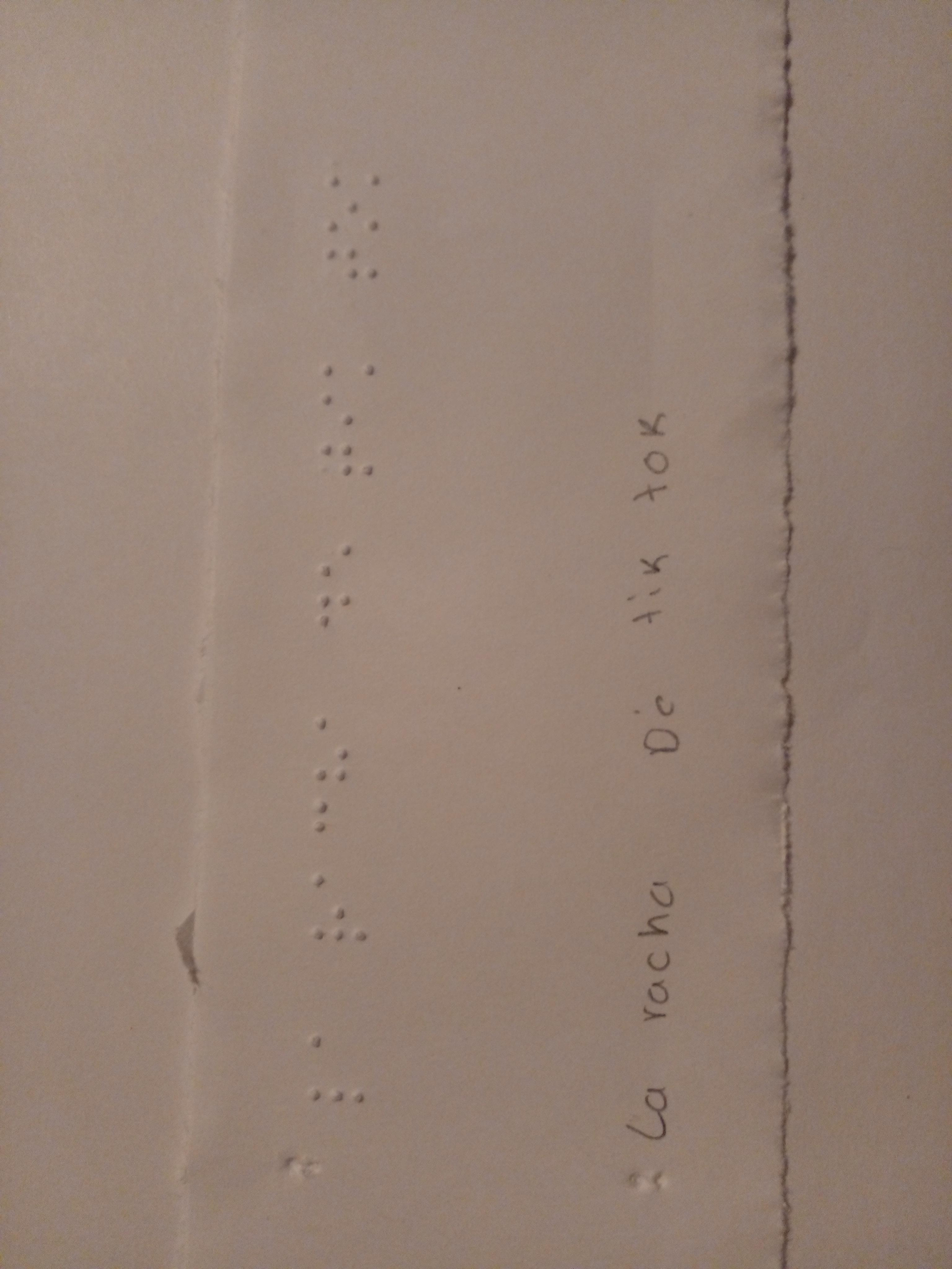a: (298, 708, 355, 745), (296, 864, 346, 898)
c: (304, 799, 346, 841)
d: (308, 589, 366, 635)
e: (308, 533, 369, 589)
h: (304, 744, 364, 790)
i: (315, 389, 367, 438)
k: (311, 164, 415, 201), (316, 345, 397, 392)
o: (316, 198, 401, 237)
r: (298, 898, 384, 945)
t: (311, 245, 404, 288), (316, 438, 380, 488)
